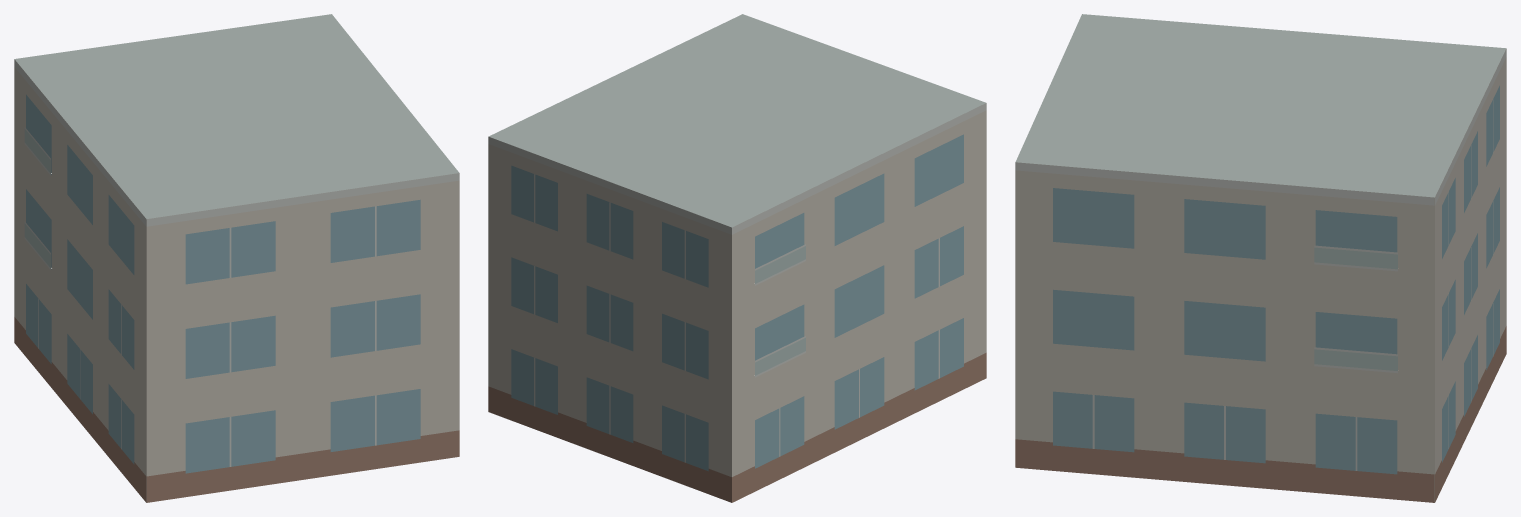
File: survey-upis-32702661.glb
3 views of the same model, side by side, from view 1: azimuth 30°, elevation 25°; view 2: azimuth 150°, elevation 25°; view 3: azimuth 270°, elevation 25° (orthographic). The views are drawn at different scales.
Parts seen in each view (by area): view 1: survey-upis-32702661.tmp; view 2: survey-upis-32702661.tmp; view 3: survey-upis-32702661.tmp.
Boxes of the visible parts, x1,y1,x2,y2 form: survey-upis-32702661.tmp: [14, 14, 459, 502]; survey-upis-32702661.tmp: [488, 14, 986, 502]; survey-upis-32702661.tmp: [1015, 14, 1506, 502].
Bounding box in the file's own units: 11.8 × 9.15 × 13.35.
